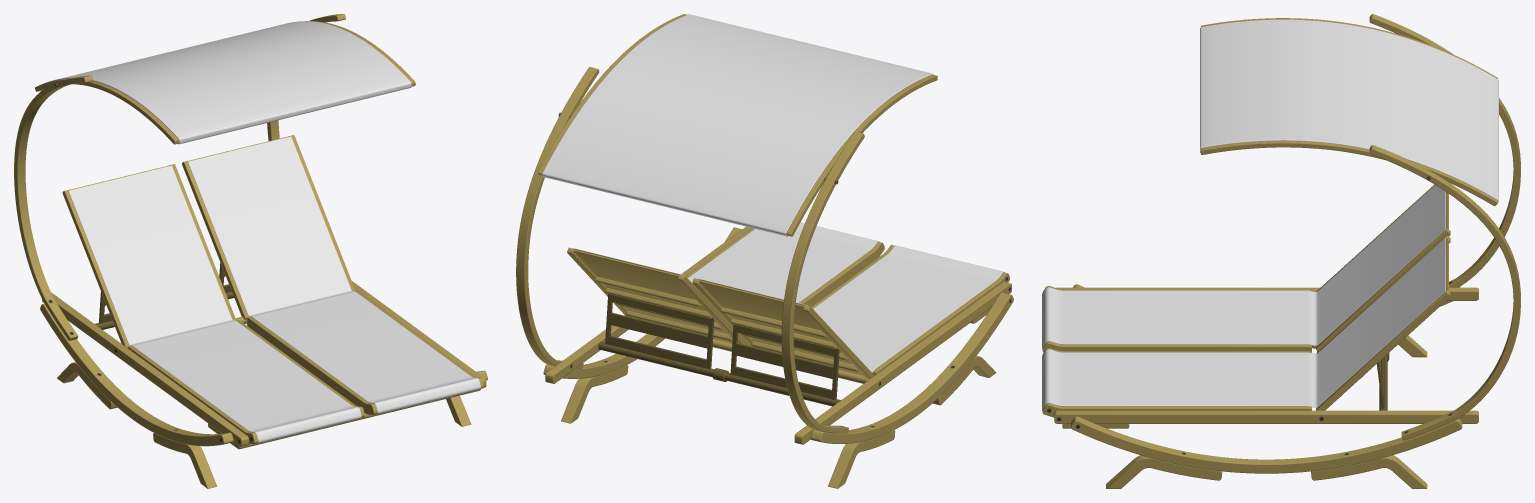
The model's file is obj_summer_lounger_09f0f9.glb.
3 views of the same model, side by side, from view 1: azimuth 30°, elevation 25°; view 2: azimuth 150°, elevation 25°; view 3: azimuth 270°, elevation 25° (orthographic). The views are drawn at different scales.
Parts seen in each view (by area): view 1: obj_summer_lounger_09f0f9; view 2: obj_summer_lounger_09f0f9; view 3: obj_summer_lounger_09f0f9.
Part boxes in pixels (x1,y1,x2,y2): obj_summer_lounger_09f0f9: (14, 14, 487, 488); obj_summer_lounger_09f0f9: (516, 14, 1013, 488); obj_summer_lounger_09f0f9: (1042, 14, 1520, 488).
Bounding box in the file's own units: 1.15 × 1.34 × 1.7.
1 material, 1 textured.
